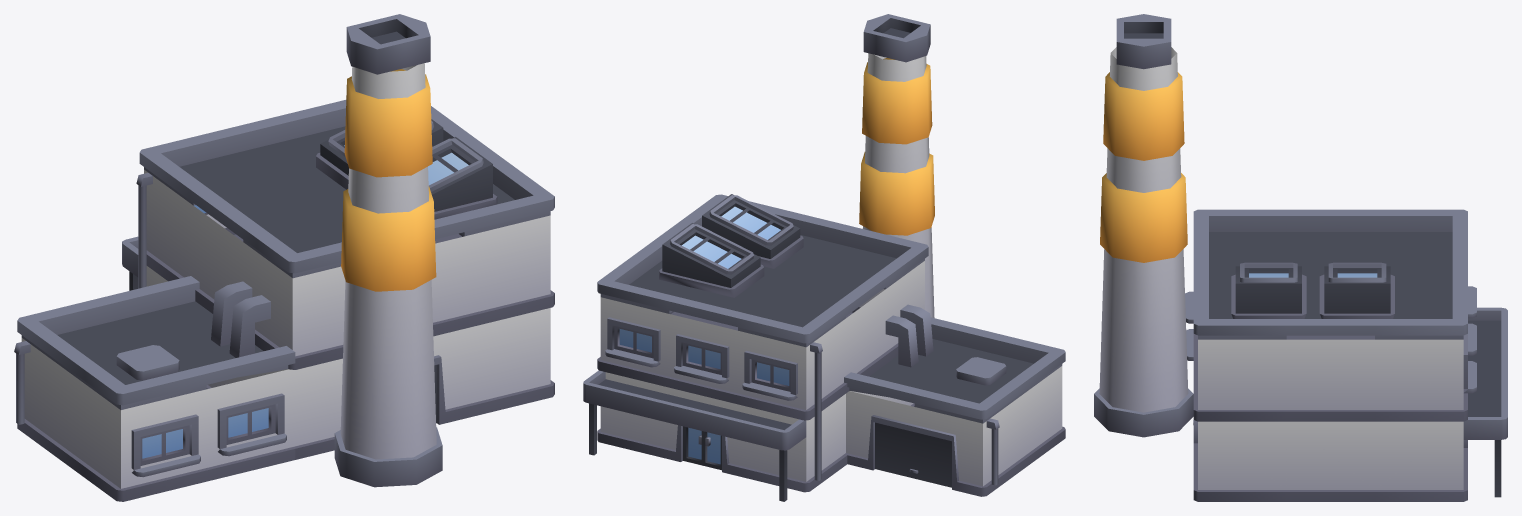
Rendered from building-l.lod.glb.
3 views of the same model, side by side, from view 1: azimuth 30°, elevation 25°; view 2: azimuth 150°, elevation 25°; view 3: azimuth 270°, elevation 25° (orthographic). The views are drawn at different scales.
Parts seen in each view (by area): view 1: building-l; view 2: building-l; view 3: building-l.
Boxes of the visible parts, <box> form: building-l: <box>14,14,554,501</box>; building-l: <box>583,14,1065,501</box>; building-l: <box>1094,14,1507,501</box>.
Bounding box in the file's own units: 2.08 × 1.92 × 1.87.
1 material, 1 textured.
